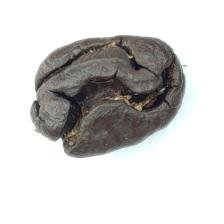NG: (36, 39, 163, 153)
